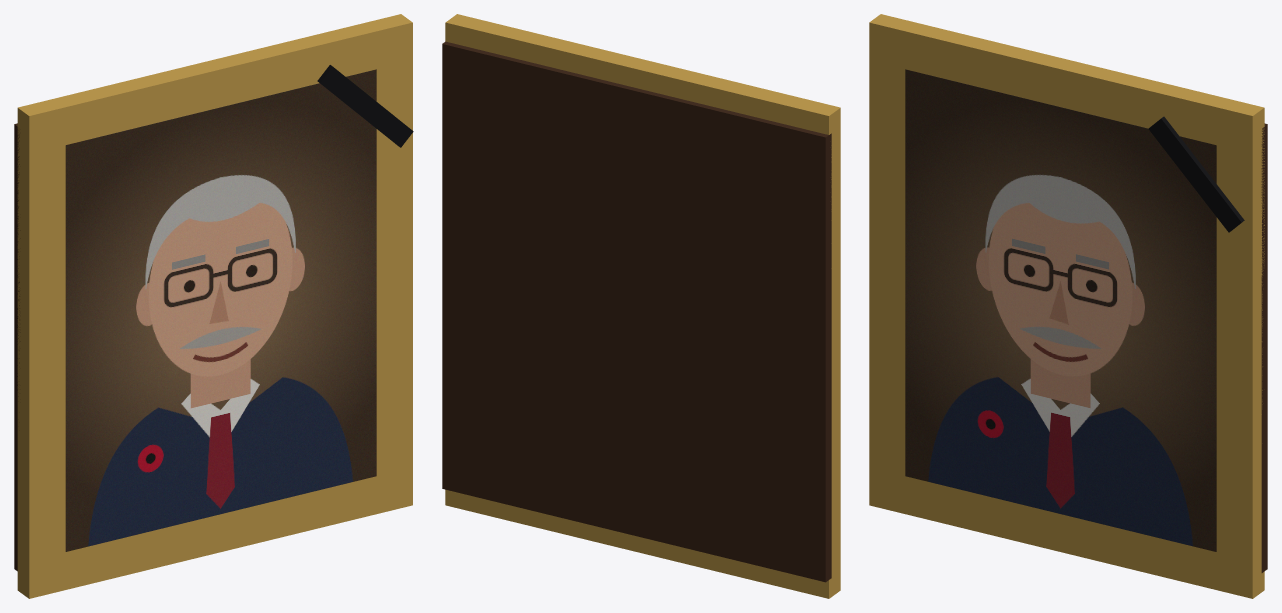
The model's file is Portrait.obj.
3 views of the same model, side by side, from view 1: azimuth 30°, elevation 25°; view 2: azimuth 150°, elevation 25°; view 3: azimuth 330°, elevation 25° (orthographic).
Visible parts, largest first — view 1: Portrait; view 2: Portrait; view 3: Portrait.
Part boxes in pixels (x1=…): Portrait: x1=14, y1=14, x2=413, y2=598; Portrait: x1=442, y1=14, x2=840, y2=598; Portrait: x1=869, y1=14, x2=1267, y2=598.
Size of the model in its own units: 0.74 by 0.89 by 0.07.
Materials: 2 (2 with a texture image).
